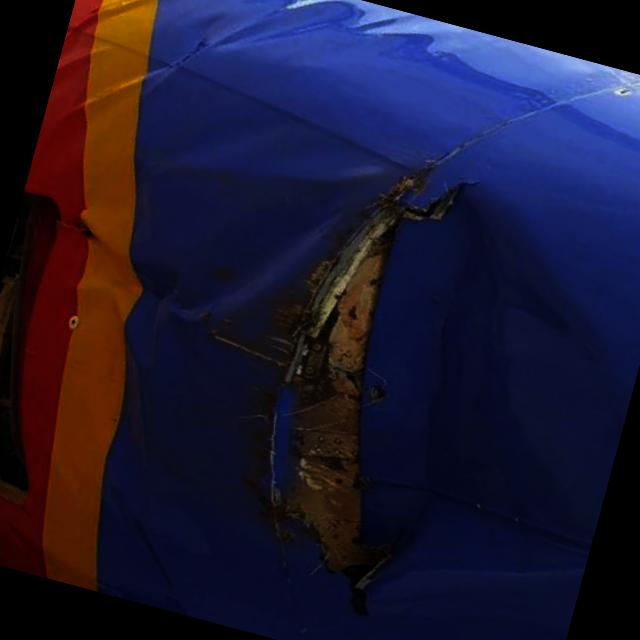crack: (398, 167, 477, 234)
dent: (326, 179, 640, 640), (170, 172, 343, 348)
